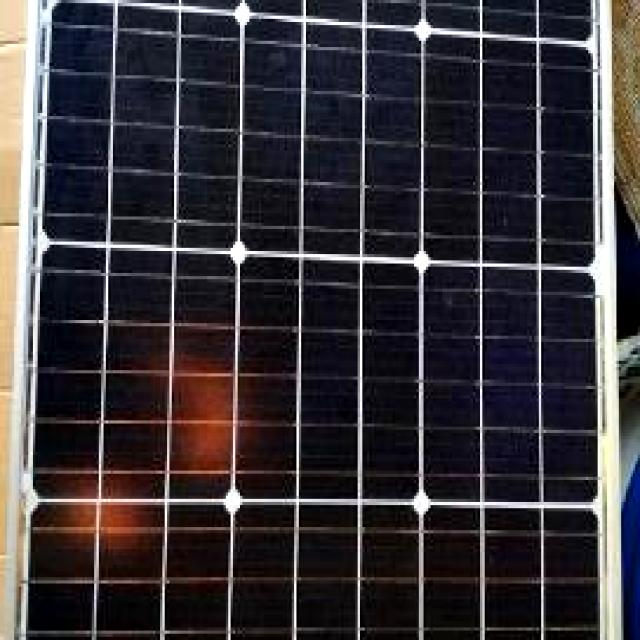shadow: (142, 322, 252, 474), (54, 468, 160, 569)
